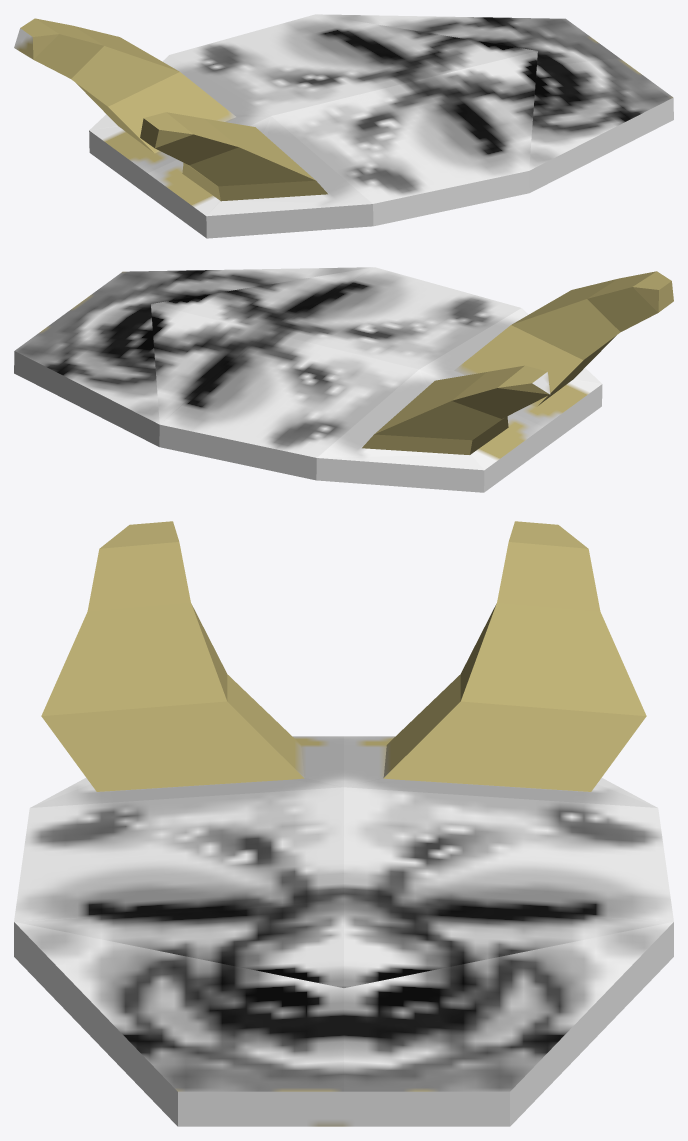
File: rage_mask.glb
3 renders of one model, top to bottom at view 1: azimuth 30°, elevation 25°; view 2: azimuth 150°, elevation 25°; view 3: azimuth 270°, elevation 25°, orthographic. The views are drawn at different scales.
Visible parts, largest first — view 1: Plane; view 2: Plane; view 3: Plane.
Part boxes in pixels (x1,y1,x2,y2): Plane: [14, 14, 673, 238]; Plane: [14, 267, 673, 492]; Plane: [14, 521, 673, 1126].
Bounding box in the file's own units: 2.93 × 0.685 × 2.
1 material, 1 textured.
